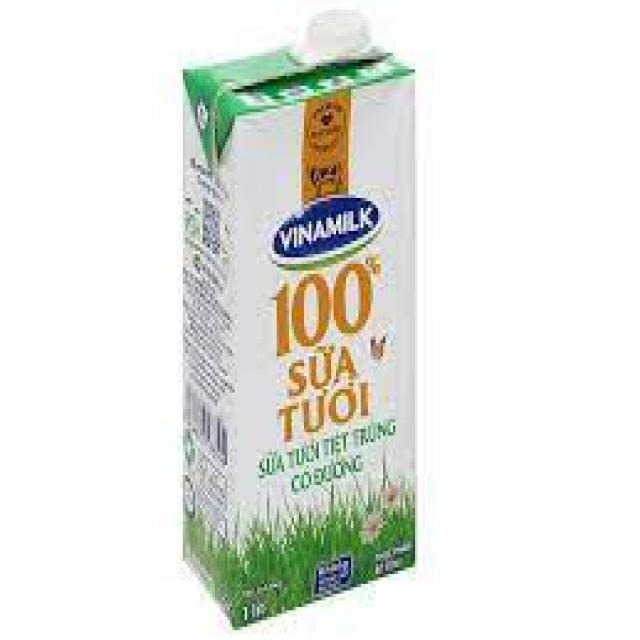non_white_jug: (133, 6, 432, 640)
